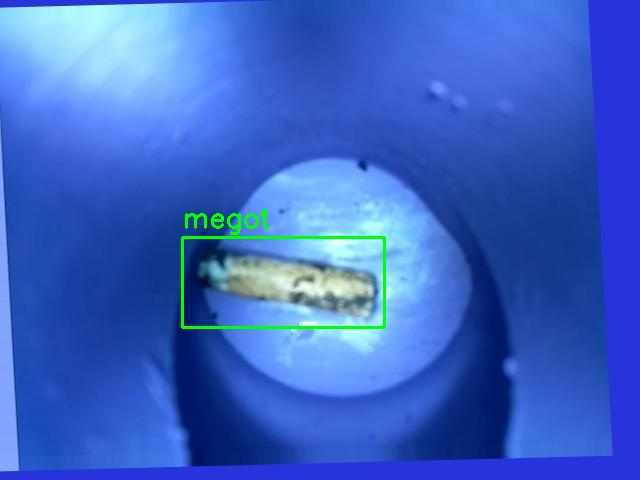megot: (182, 237, 384, 327)
